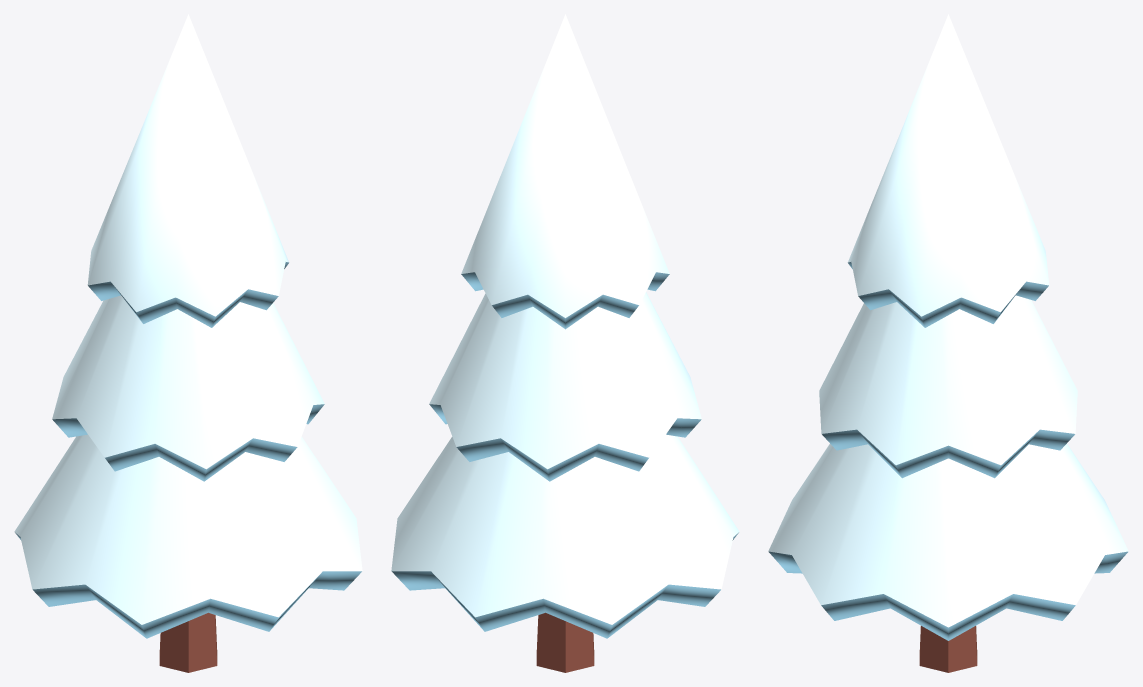
Rendered from Env_Pine_Large.glb.
The picture shows the model from 3 angles, left to right: view 1: azimuth 30°, elevation 25°; view 2: azimuth 150°, elevation 25°; view 3: azimuth 270°, elevation 25°; orthographic projection.
Parts seen in each view (by area): view 1: Pine_Large_Foliage, Pine_Large_Trunk; view 2: Pine_Large_Foliage, Pine_Large_Trunk; view 3: Pine_Large_Foliage, Pine_Large_Trunk.
Part boxes in pixels (box(x1,y1,x2,y2)): Pine_Large_Foliage: box(14, 14, 362, 638); Pine_Large_Trunk: box(159, 612, 217, 672); Pine_Large_Foliage: box(391, 14, 739, 638); Pine_Large_Trunk: box(536, 612, 594, 672); Pine_Large_Foliage: box(768, 14, 1128, 640); Pine_Large_Trunk: box(919, 626, 977, 672).
Size of the model in its own units: 1.52 by 3 by 1.52.
